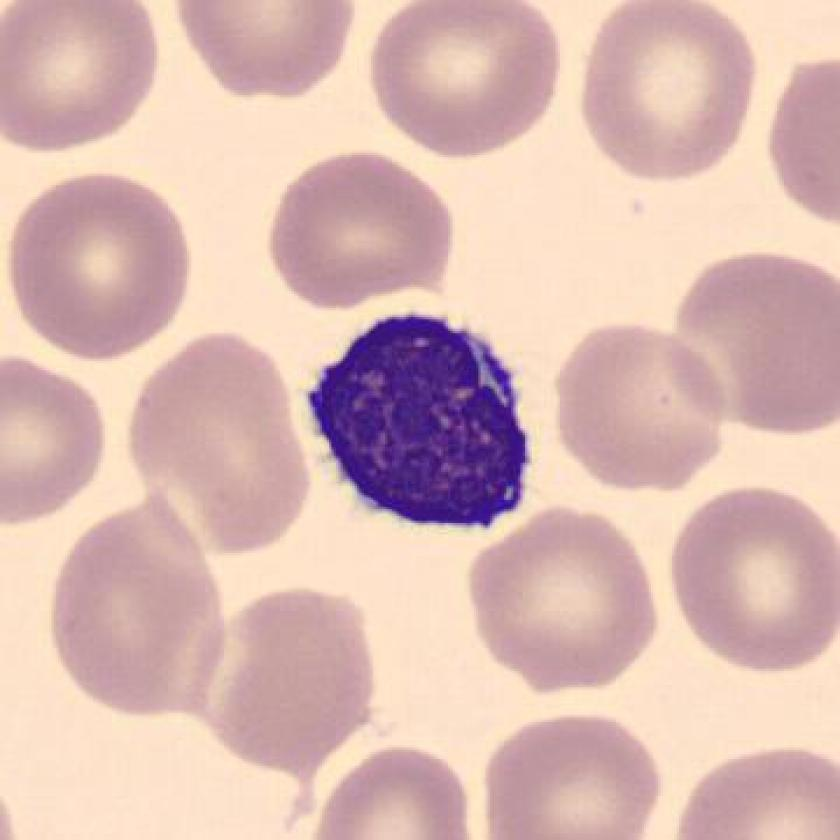lymphocyte: (288, 290, 554, 545)
